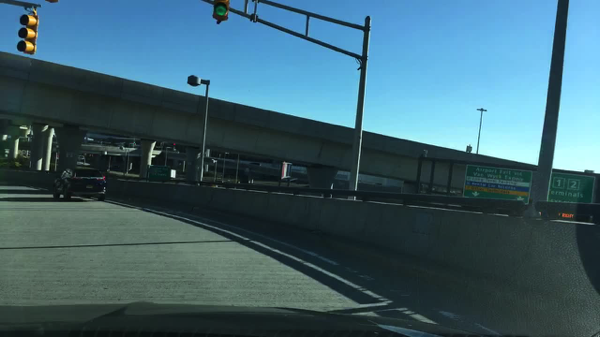car: (52, 165, 108, 201), (251, 161, 262, 167)
traffic light: (17, 14, 37, 56), (212, 1, 229, 20)
traffic sign: (461, 164, 529, 204), (550, 171, 594, 202), (147, 163, 169, 182)
